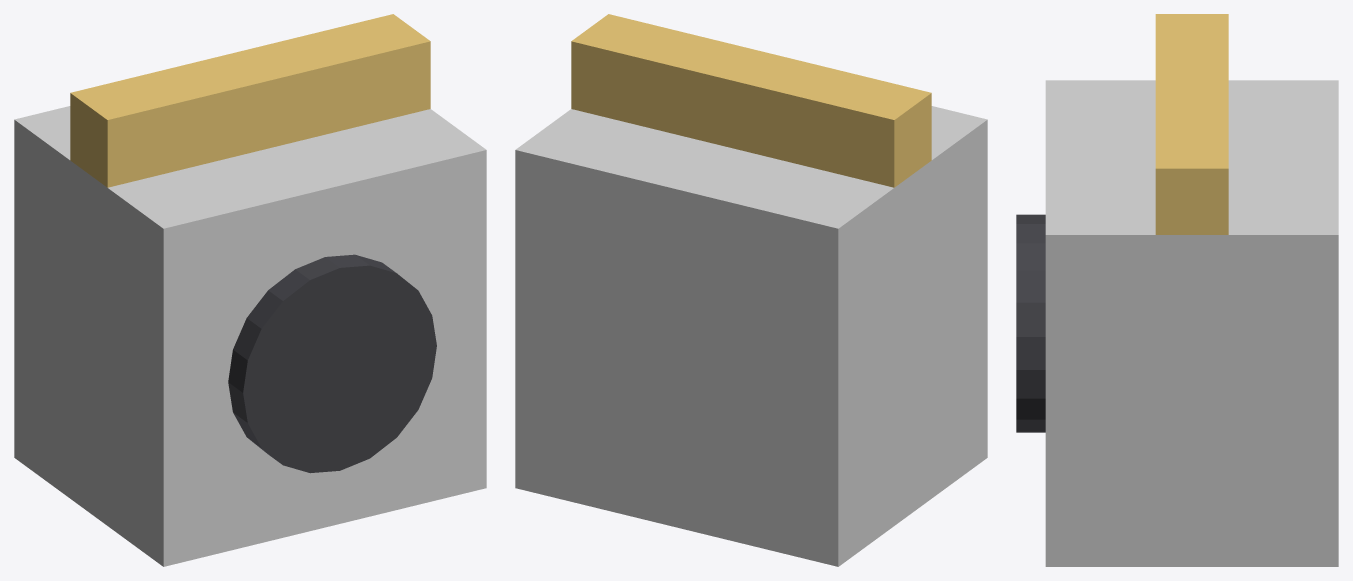
The model's file is ins_rad.fbx.
3 views of the same model, side by side, from view 1: azimuth 30°, elevation 25°; view 2: azimuth 150°, elevation 25°; view 3: azimuth 270°, elevation 25° (orthographic).
Visible parts, largest first — view 1: ins_rad; view 2: ins_rad; view 3: ins_rad.
Part boxes in pixels (<box>): ins_rad: <box>14,14,486,566</box>; ins_rad: <box>515,14,987,566</box>; ins_rad: <box>1016,14,1338,566</box>.
Size of the model in its own units: 0.1 by 0.12 by 0.088.
